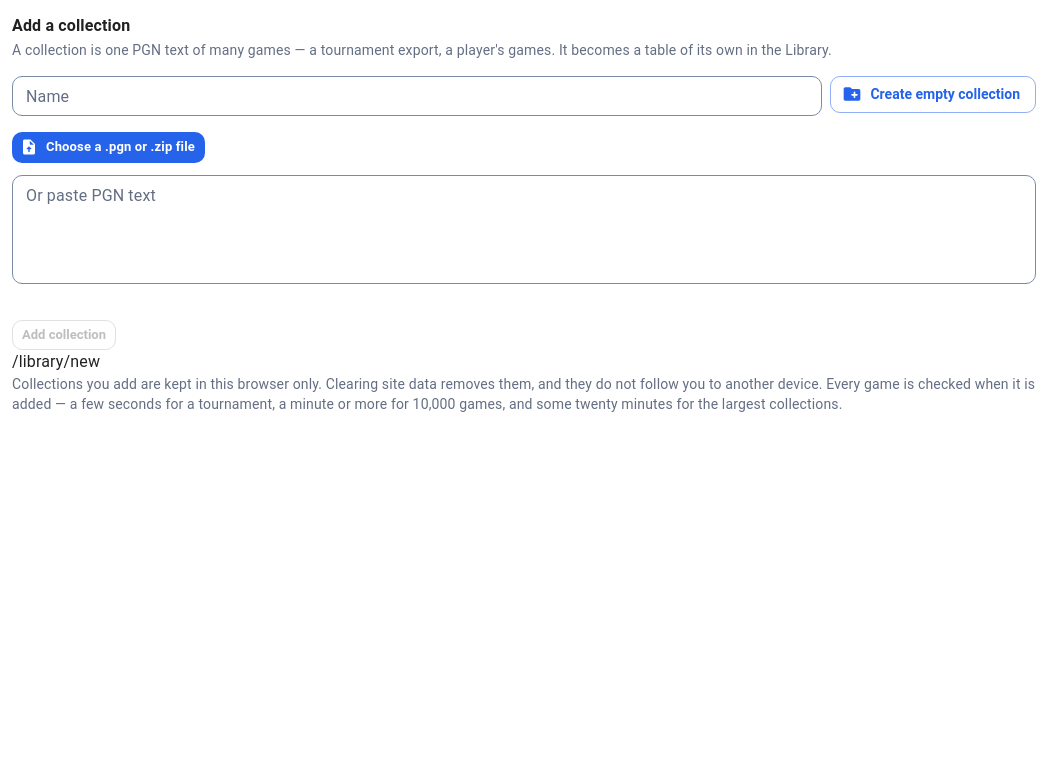
Scenario: adding a collection › names an empty collection for the reader when no name is typed
Click the button with test id "library-upload-empty": click(933, 94) x1=830 y1=76 x2=1036 y2=112
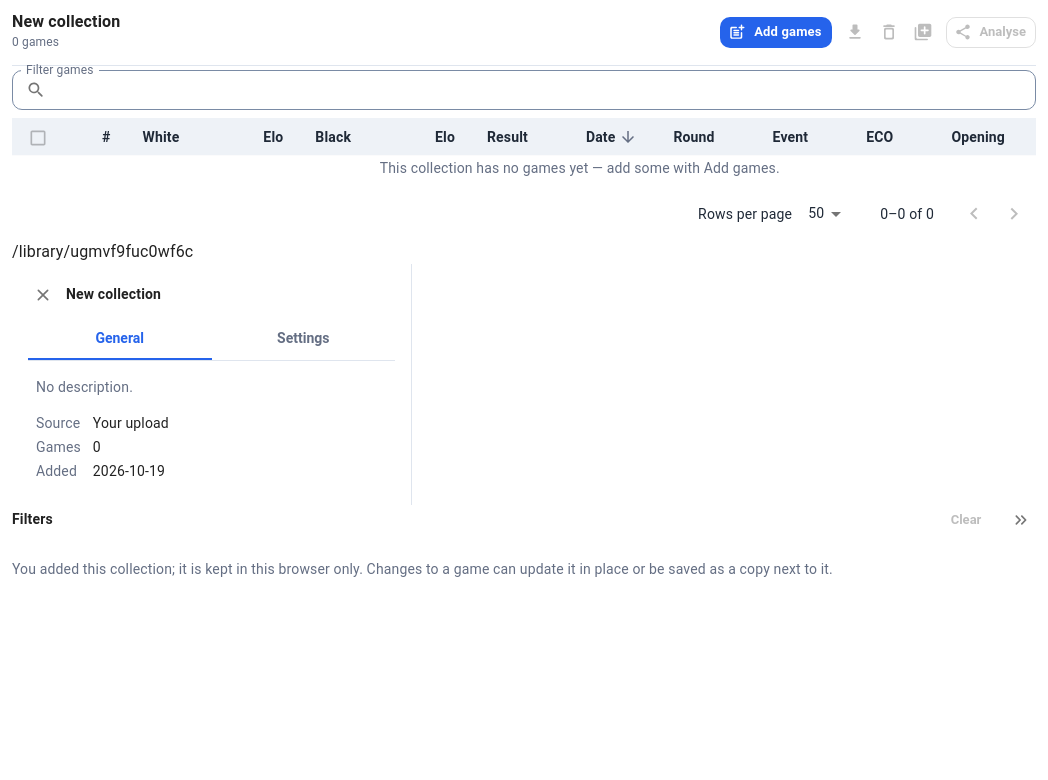
Expected: the text with test id "where" shows "/library/u", x1=12 y1=242 x2=193 y2=261
Expected: the text "New collection" is shown, x1=12 y1=12 x2=120 y2=31
